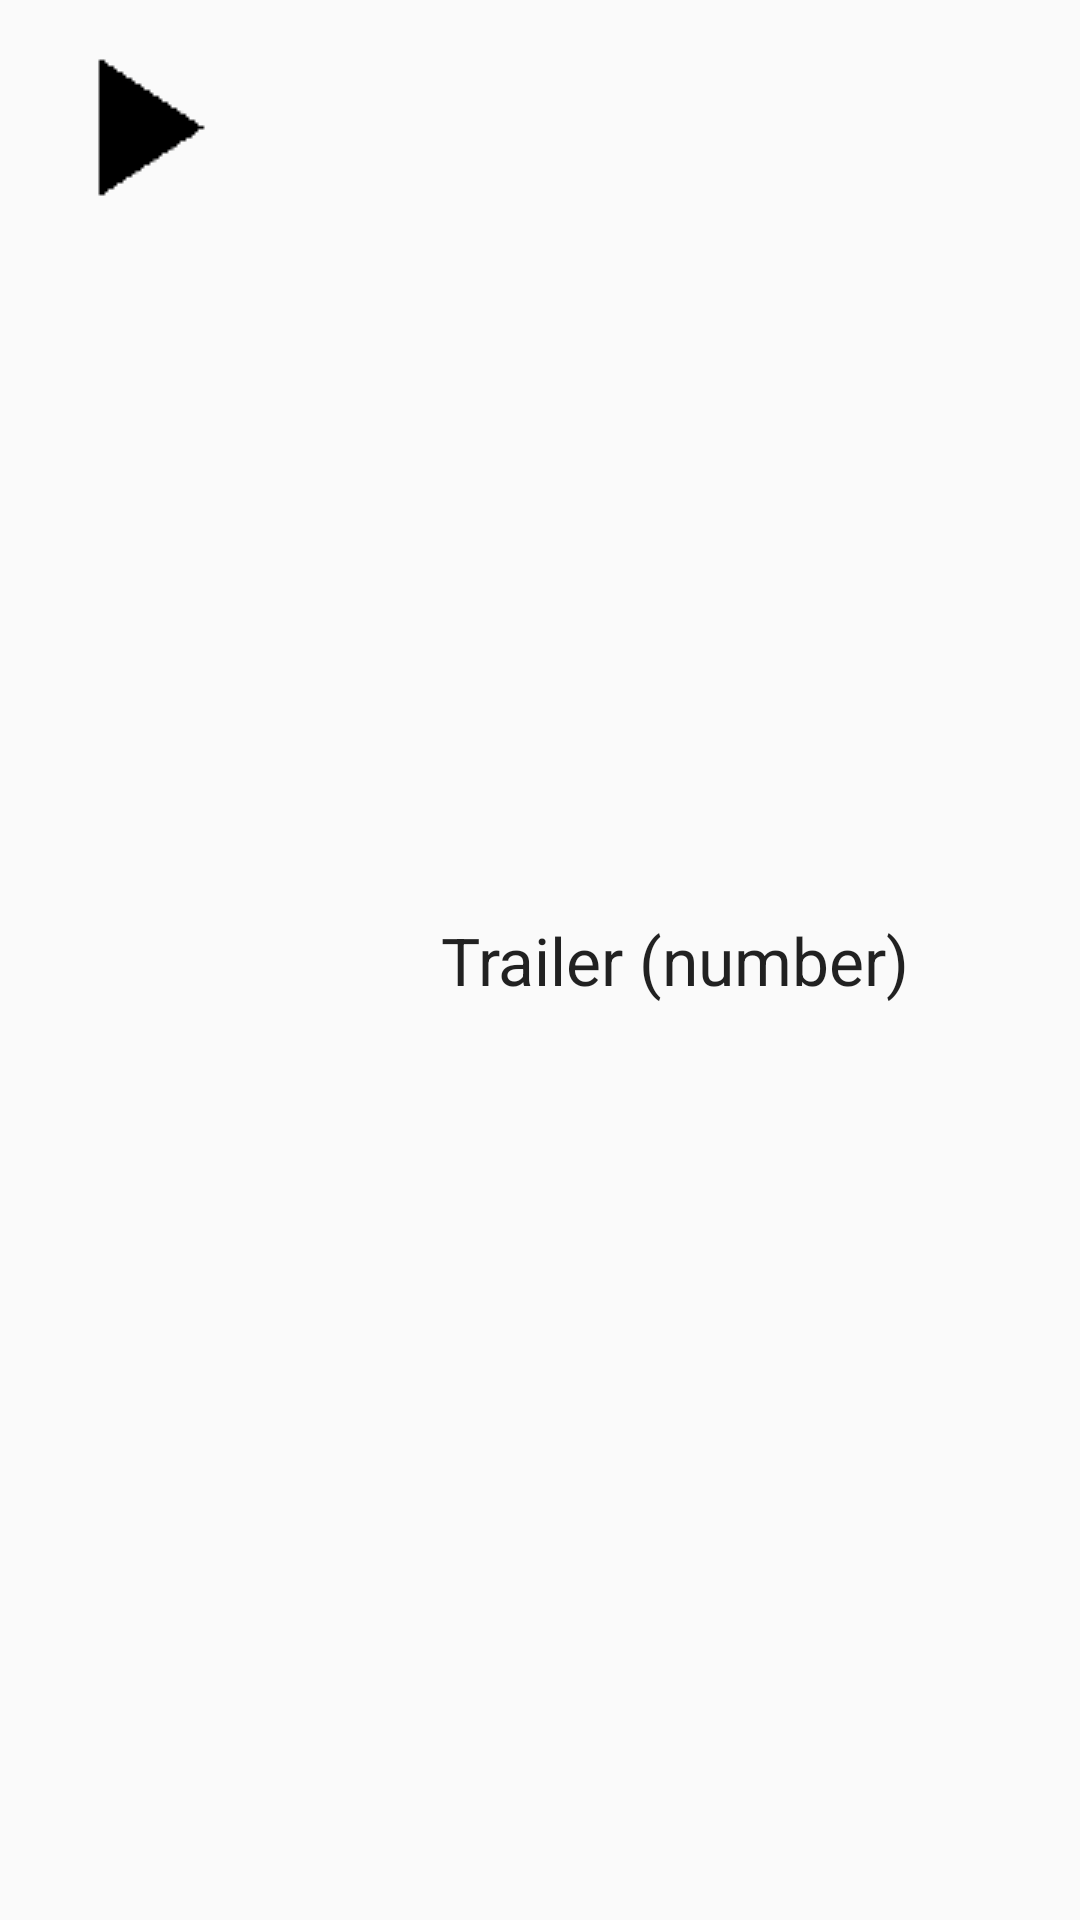

Named icons in this screenshot (1080px×1920px) and their centers, point (x, y):
play: point (151, 127)
